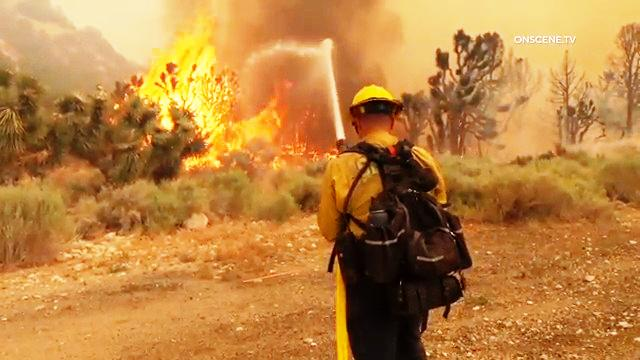fire: (136, 5, 261, 162)
